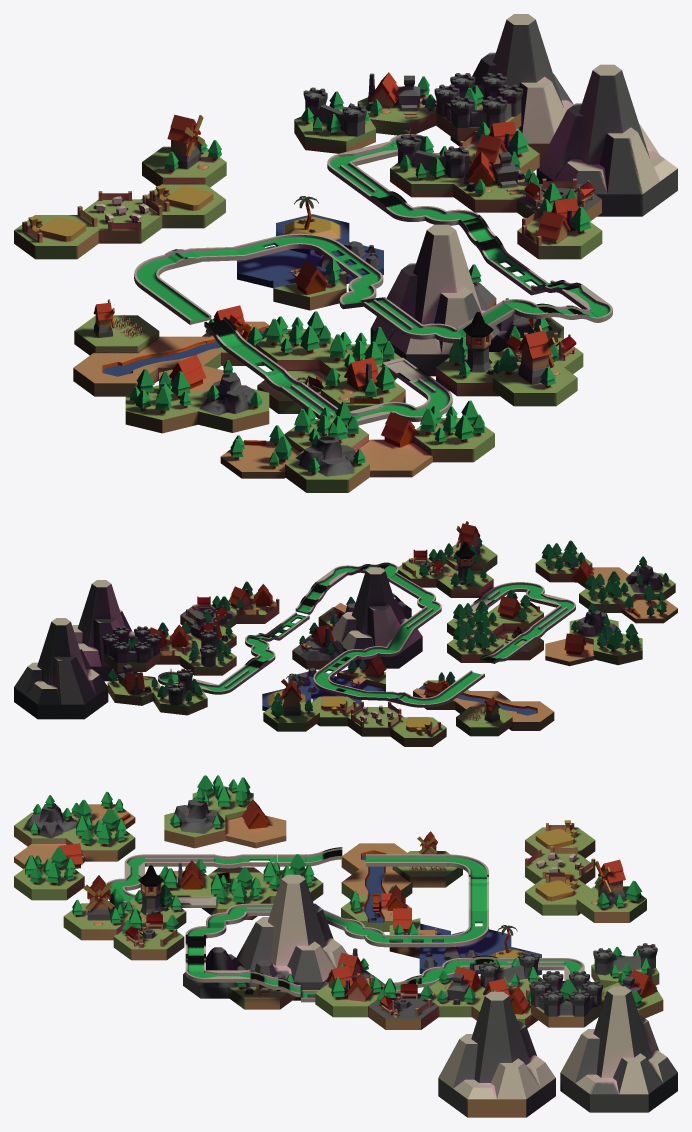
The model's file is course_simplebake.glb.
The picture shows the model from 3 angles, top to bottom: view 1: azimuth 30°, elevation 25°; view 2: azimuth 150°, elevation 25°; view 3: azimuth 270°, elevation 25°; orthographic projection. The views are drawn at different scales.
Parts seen in each view (by area): view 1: course_backup_Baked.002; view 2: course_backup_Baked.002; view 3: course_backup_Baked.002.
Part boxes in pixels (left/top/right/bottom): course_backup_Baked.002: left=14, top=14, right=677, bottom=492; course_backup_Baked.002: left=14, top=521, right=677, bottom=746; course_backup_Baked.002: left=14, top=775, right=677, bottom=1117.
Bounding box in the file's own units: 330 × 54.32 × 326.
1 material, 1 textured.
